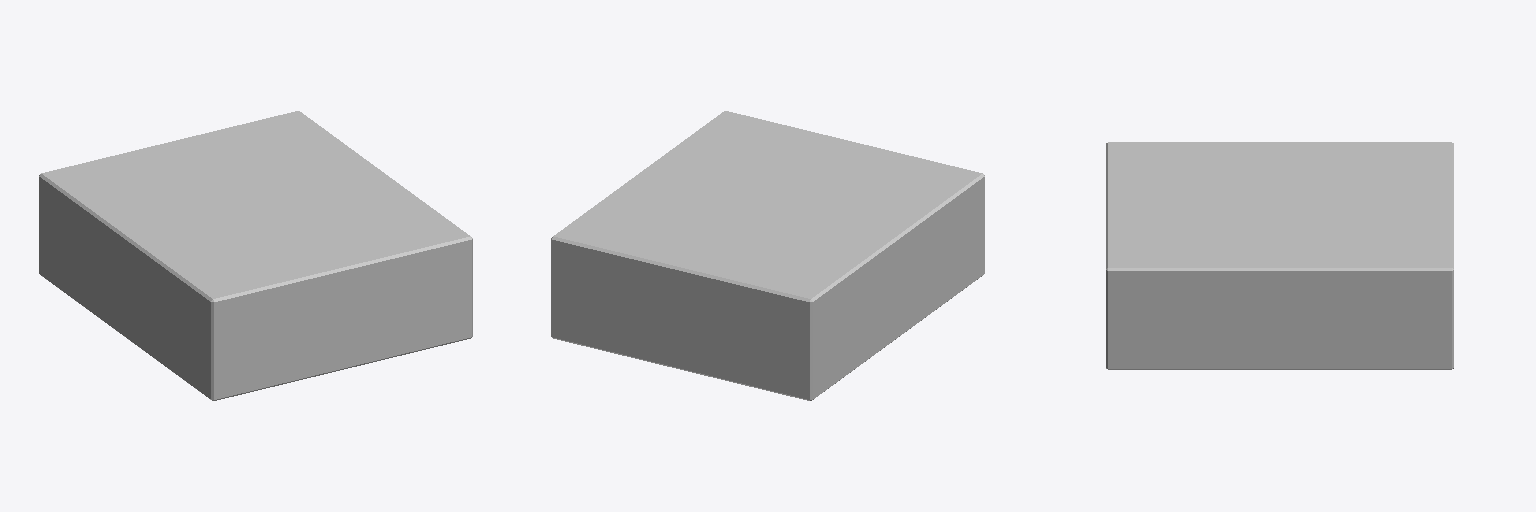
Rendered from Input_prediction_mesh.obj.
The picture shows the model from 3 angles: view 1: azimuth 30°, elevation 25°; view 2: azimuth 150°, elevation 25°; view 3: azimuth 270°, elevation 25°; orthographic projection.
Visible parts, largest first — view 1: mat3, mat1, mat2, mat0, mat5; view 2: mat3, mat1, mat2, mat0, mat5; view 3: mat3, mat1, mat0, mat2, mat5.
Boxes of the visible parts, box(x1,y1,x2,y2) form: mat3: box(47, 112, 472, 337); mat1: box(39, 111, 472, 393); mat2: box(77, 194, 435, 375); mat0: box(39, 267, 472, 400); mat5: box(214, 271, 316, 298); mat3: box(553, 112, 974, 303); mat1: box(551, 111, 984, 393); mat2: box(551, 218, 953, 360); mat0: box(551, 266, 984, 400); mat5: box(878, 149, 963, 179); mat3: box(1106, 144, 1453, 354); mat1: box(1106, 142, 1453, 363); mat0: box(1106, 360, 1453, 369); mat2: box(1285, 142, 1453, 331); mat5: box(1106, 148, 1136, 192).
Size of the model in its own units: 4.72 by 1.76 by 5.44.